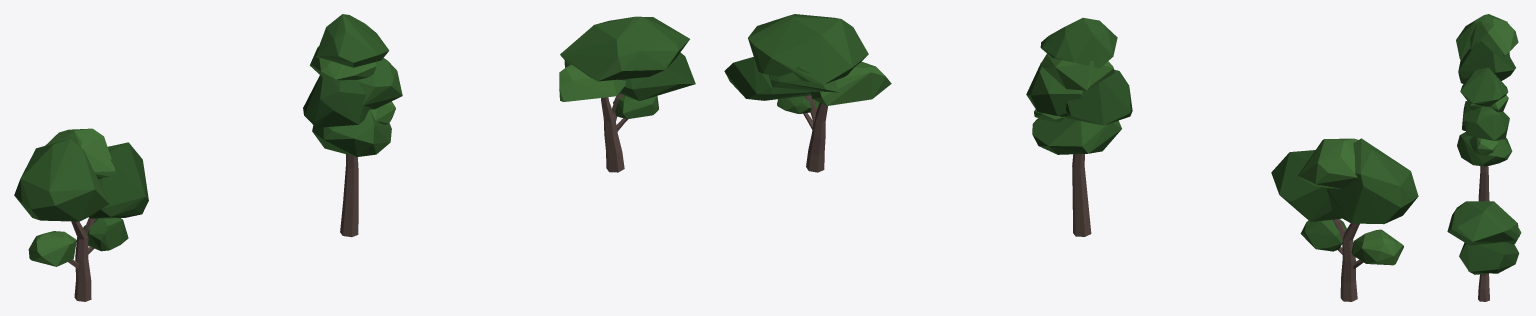
The model's file is trees_oak.fbx.
3 renders of one model, left to right at view 1: azimuth 30°, elevation 25°; view 2: azimuth 150°, elevation 25°; view 3: azimuth 270°, elevation 25°, orthographic. The views are drawn at different scales.
Parts seen in each view (by area): view 1: oak_a, oak_b, oak_c; view 2: oak_a, oak_c, oak_b; view 3: oak_b, oak_c, oak_a.
Boxes of the visible parts, left/top/right/bottom form: oak_a: left=14, top=128, right=148, bottom=301; oak_b: left=303, top=14, right=402, bottom=237; oak_c: left=559, top=16, right=695, bottom=172; oak_a: left=1271, top=138, right=1418, bottom=301; oak_c: left=724, top=14, right=891, bottom=172; oak_b: left=1026, top=17, right=1132, bottom=236; oak_b: left=1457, top=67, right=1512, bottom=201; oak_c: left=1447, top=201, right=1521, bottom=301; oak_a: left=1456, top=14, right=1518, bottom=83.
Bounding box in the file's own units: 60.83 × 18.86 × 8.71.
Materials: 1 (1 with a texture image).
